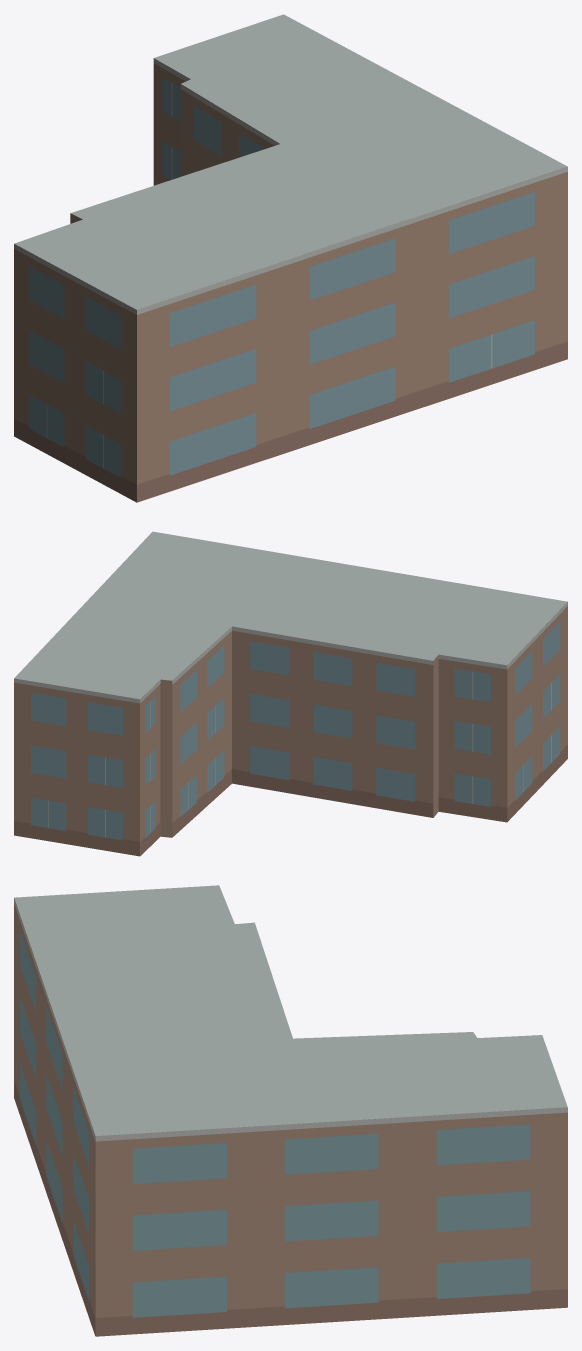
Rendered from survey-upis-32520426.glb.
3 views of the same model, one above another, from view 1: azimuth 30°, elevation 25°; view 2: azimuth 150°, elevation 25°; view 3: azimuth 270°, elevation 25° (orthographic). The views are drawn at different scales.
Visible parts, largest first — view 1: survey-upis-32520426.tmp; view 2: survey-upis-32520426.tmp; view 3: survey-upis-32520426.tmp.
Boxes of the visible parts, x1,y1,x2,y2 form: survey-upis-32520426.tmp: (14,14,567,502); survey-upis-32520426.tmp: (14,531,567,856); survey-upis-32520426.tmp: (14,885,567,1336).
Size of the model in its own units: 24.58 by 9.15 by 22.92.
